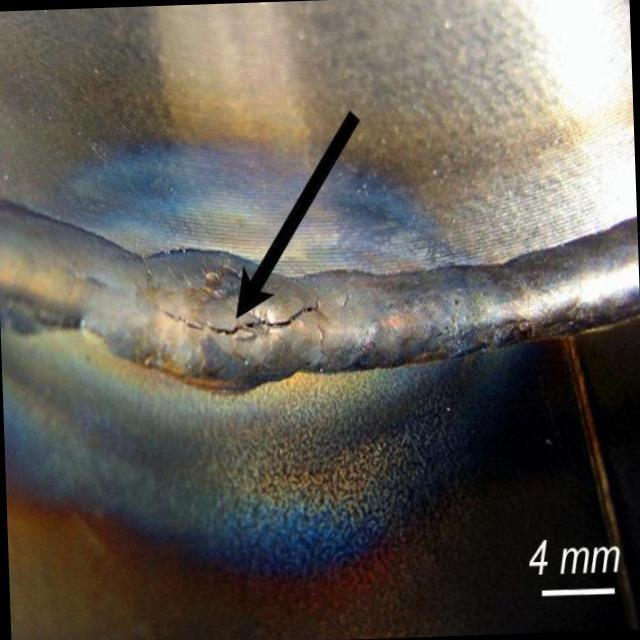defect: (160, 285, 324, 338)
